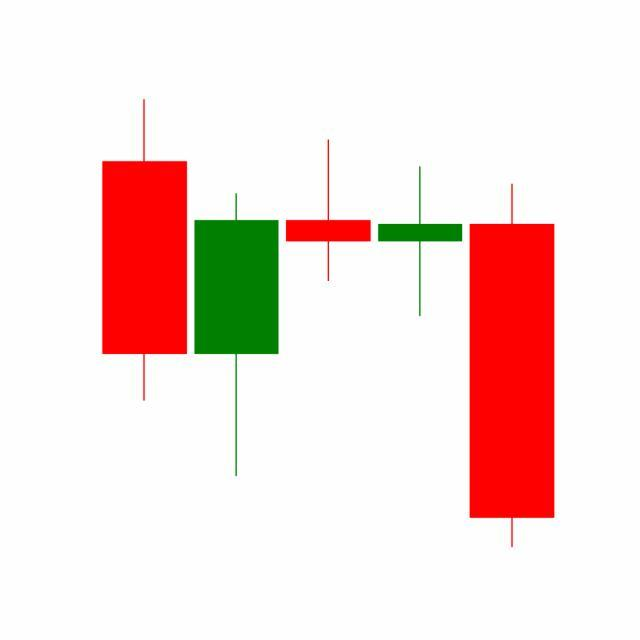Spinning Top: (374, 165, 468, 319)
